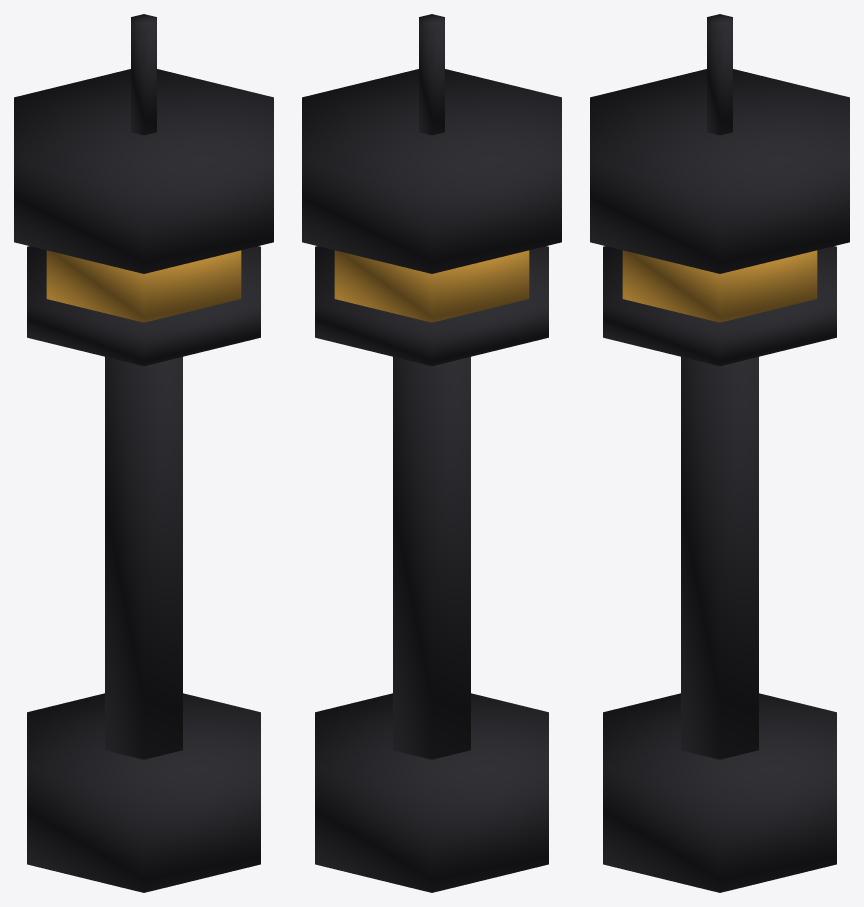
The model's file is gothic_street_lamp.obj.
The picture shows the model from 3 angles, left to right: view 1: azimuth 30°, elevation 25°; view 2: azimuth 150°, elevation 25°; view 3: azimuth 270°, elevation 25°; orthographic projection.
Visible parts, largest first — view 1: gothic_street_lamp; view 2: gothic_street_lamp; view 3: gothic_street_lamp.
Part boxes in pixels (x1=…): gothic_street_lamp: x1=14, y1=14, x2=273, y2=892; gothic_street_lamp: x1=302, y1=14, x2=561, y2=892; gothic_street_lamp: x1=590, y1=14, x2=849, y2=892.
Bounding box in the file's own units: 0.4 × 1.2 × 0.3464.
